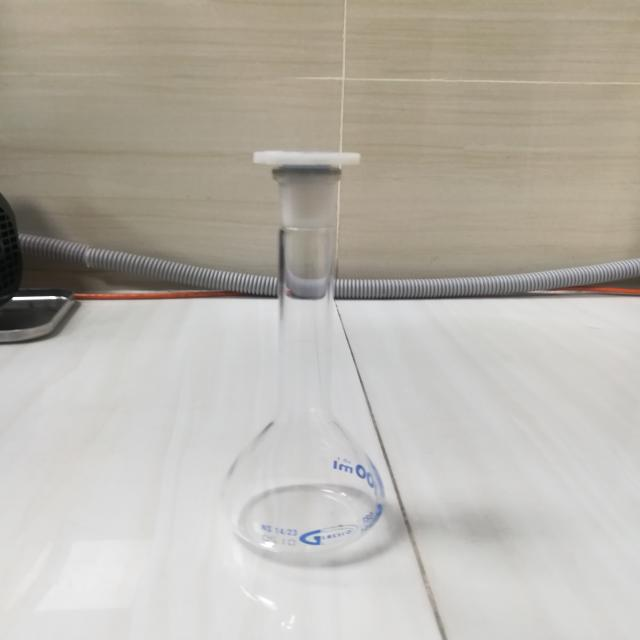Volumetric_Flask: (196, 107, 427, 587)
